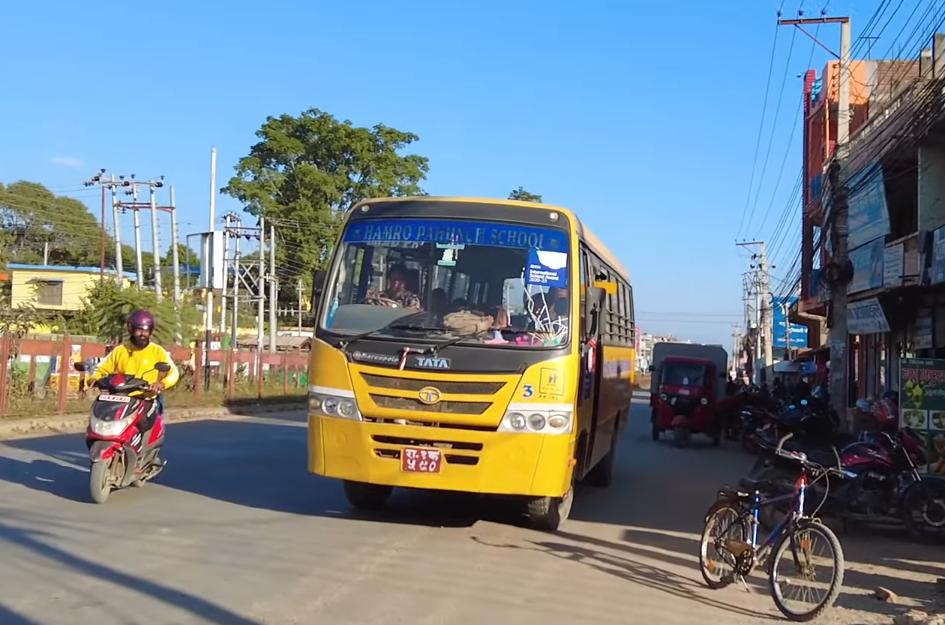auto_rickshaw: (649, 344, 724, 446)
school_bus: (299, 190, 639, 537)
scooter: (72, 356, 173, 508)
